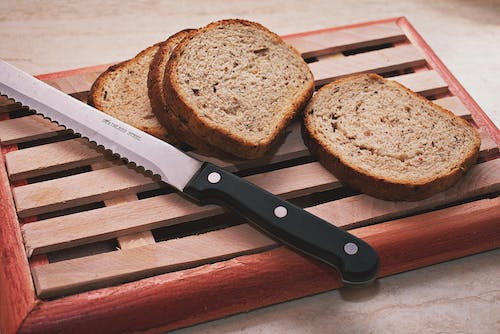knife: (0, 56, 381, 288)
